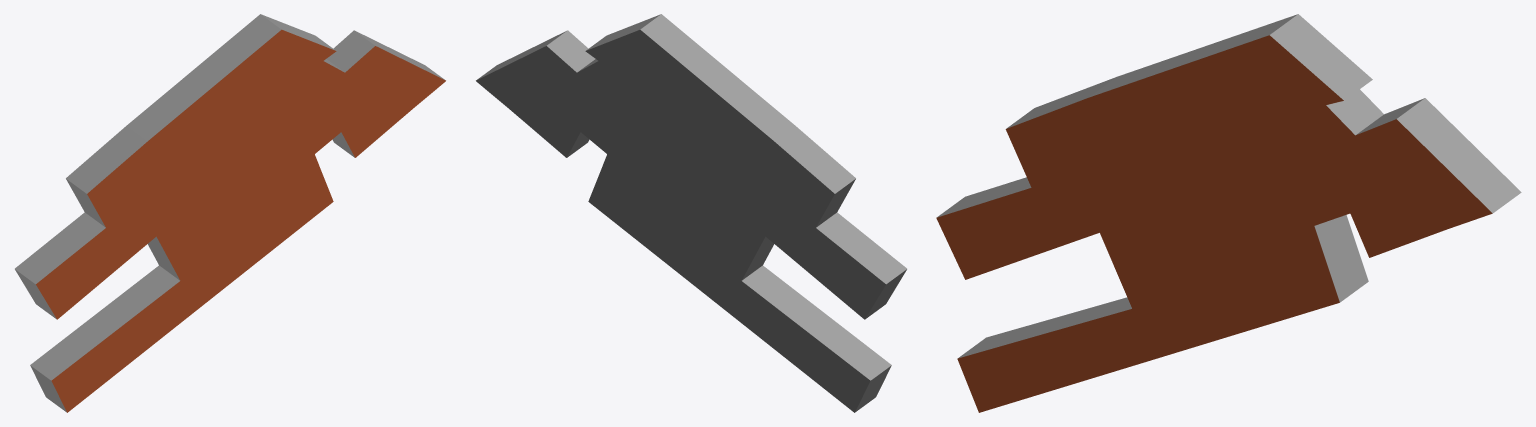
The model's file is construction_6262_assumed_A_Casa_h6m.obj.
3 views of the same model, side by side, from view 1: azimuth 30°, elevation 25°; view 2: azimuth 150°, elevation 25°; view 3: azimuth 330°, elevation 25° (orthographic). The views are drawn at different scales.
Parts seen in each view (by area): view 1: construction_6262_assumed_A_Casa; view 2: construction_6262_assumed_A_Casa; view 3: construction_6262_assumed_A_Casa.
Part boxes in pixels (box(x1,y1,x2,y2)): construction_6262_assumed_A_Casa: box(15, 14, 445, 412); construction_6262_assumed_A_Casa: box(476, 14, 906, 412); construction_6262_assumed_A_Casa: box(936, 14, 1521, 412).
Bounding box in the file's own units: 66.77 × 51.43 × 6.
